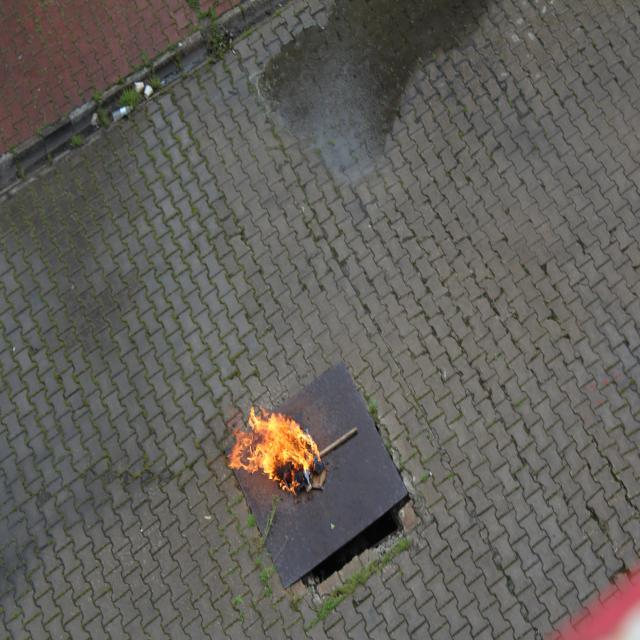fire: (195, 393, 342, 508)
